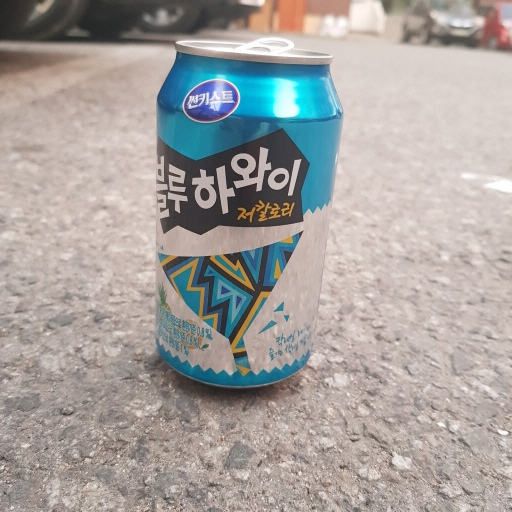Metal_0: (147, 37, 345, 397)
